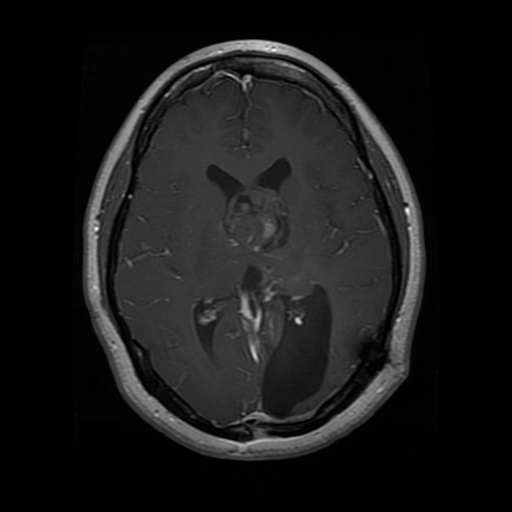glioma: (191, 265, 333, 413)
